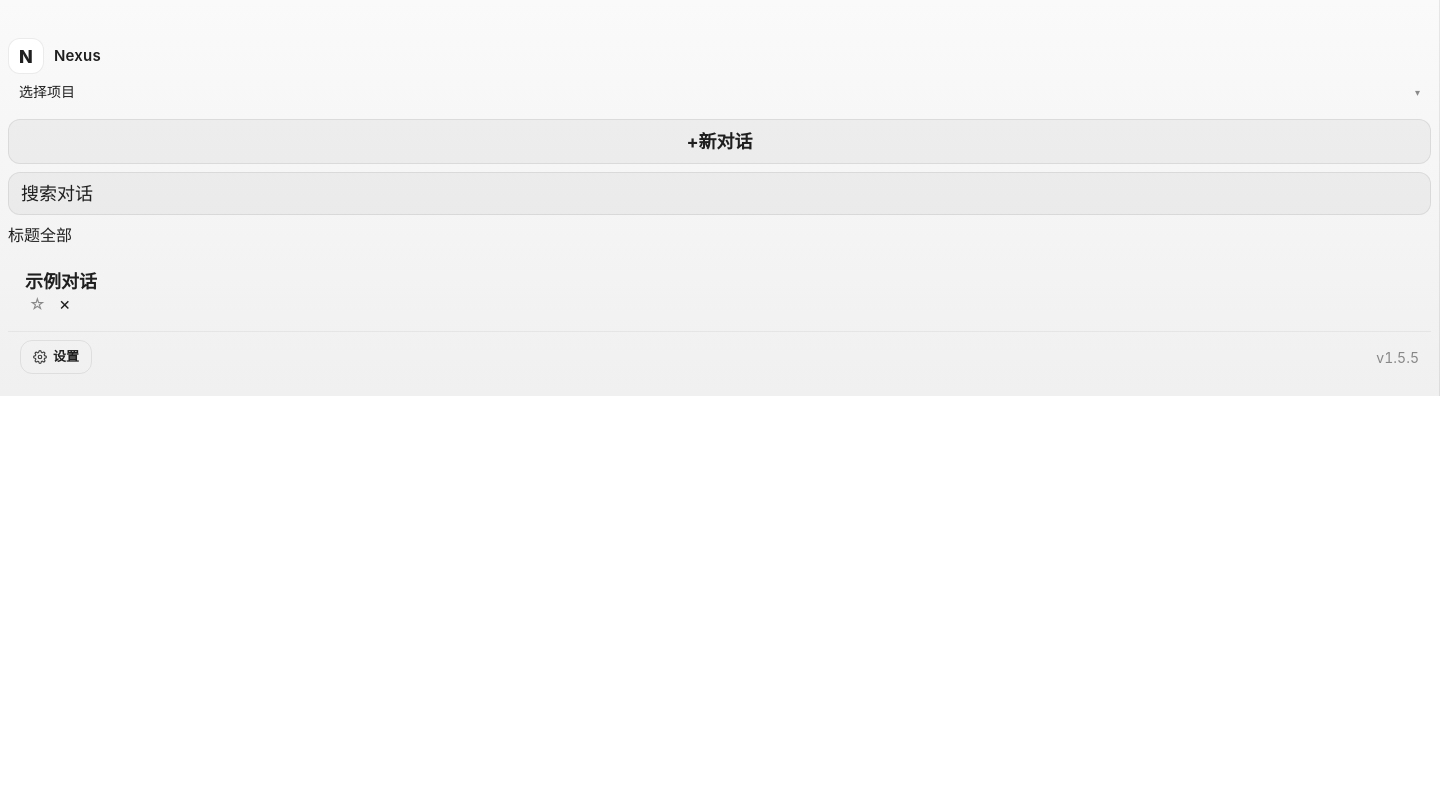
Test: 模拟人工:设置弹窗界面偏好 › 弹窗内有"显示思考过程"和"深色模式" toggle 按钮
The image size is (1440, 810).
Step 1. Click the button "设置" → (56, 357), box [20,340,92,374]
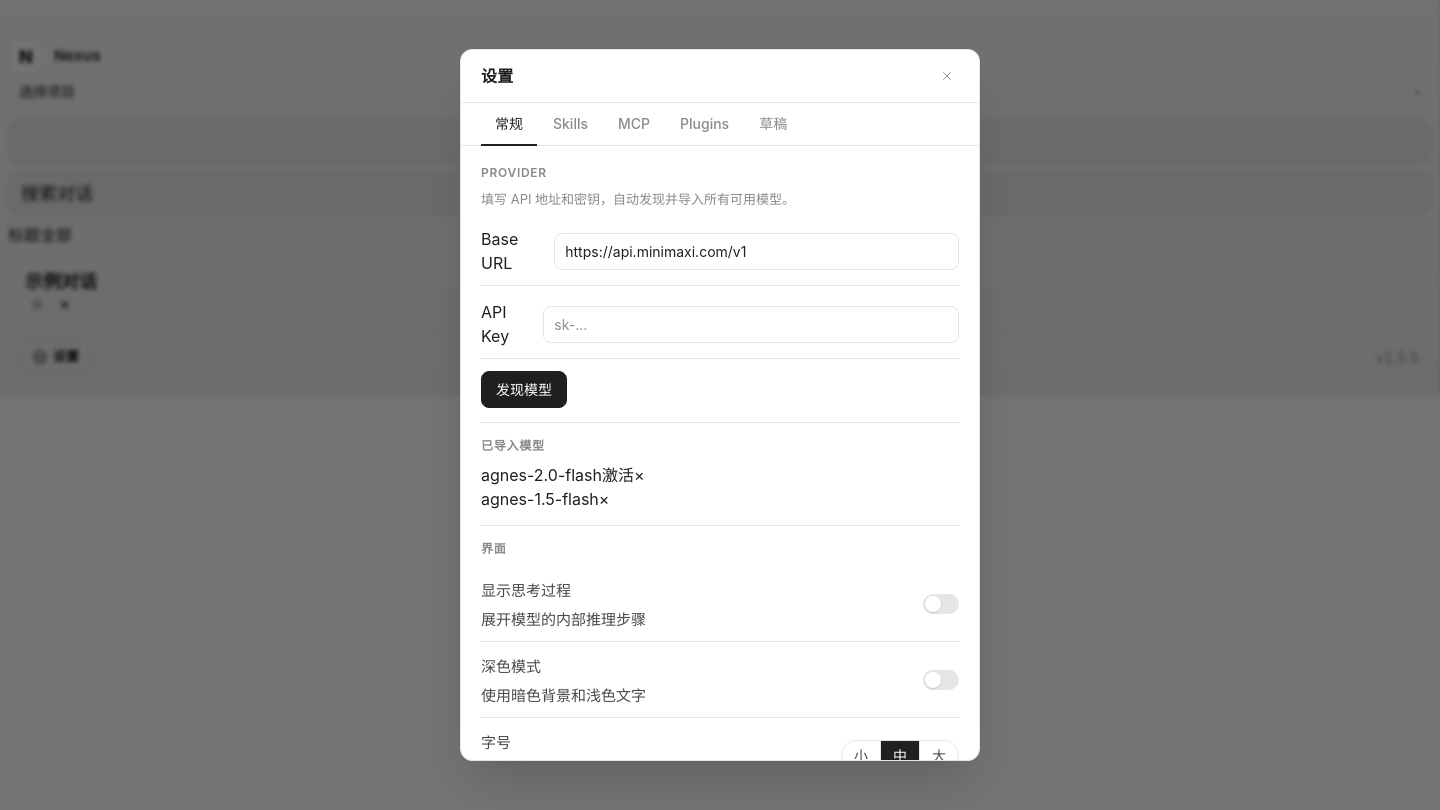
Expected: the number of switches named "已关闭" is 2, [923,594,959,614]; [923,670,959,690]
